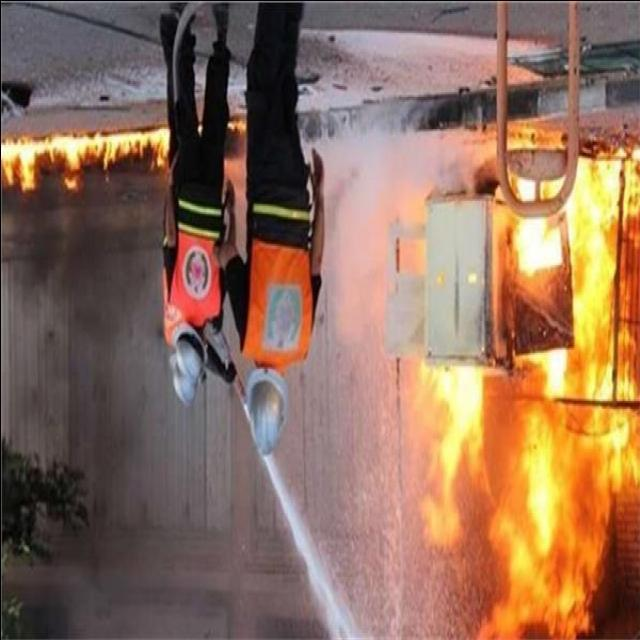Fire: (408, 160, 640, 635), (0, 124, 178, 196)
